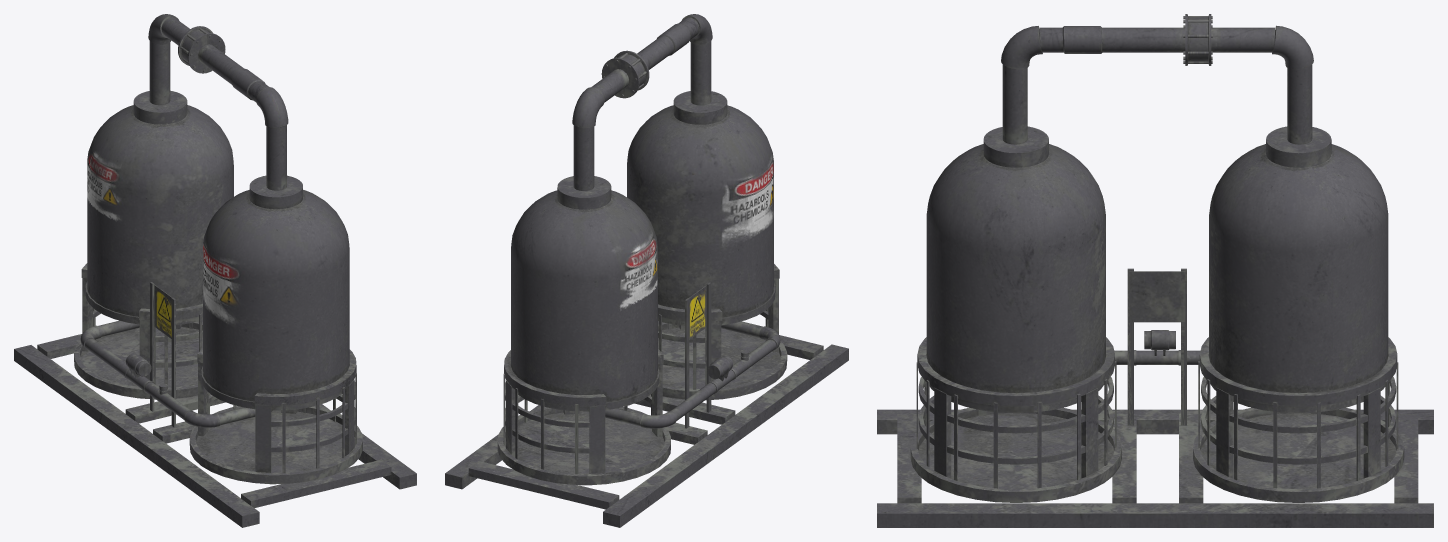
File: chemical_tank.glb
3 renders of one model, left to right at view 1: azimuth 30°, elevation 25°; view 2: azimuth 150°, elevation 25°; view 3: azimuth 270°, elevation 25°, orthographic. The views are drawn at different scales.
Parts seen in each view (by area): view 1: Cylinder; view 2: Cylinder; view 3: Cylinder.
Boxes of the visible parts, x1,y1,x2,y2 form: Cylinder: (14,14,416,527); Cylinder: (445,14,848,527); Cylinder: (877,14,1433,527).
Size of the model in its own units: 2.74 by 5.69 by 6.22.
Materials: 1 (1 with a texture image).
